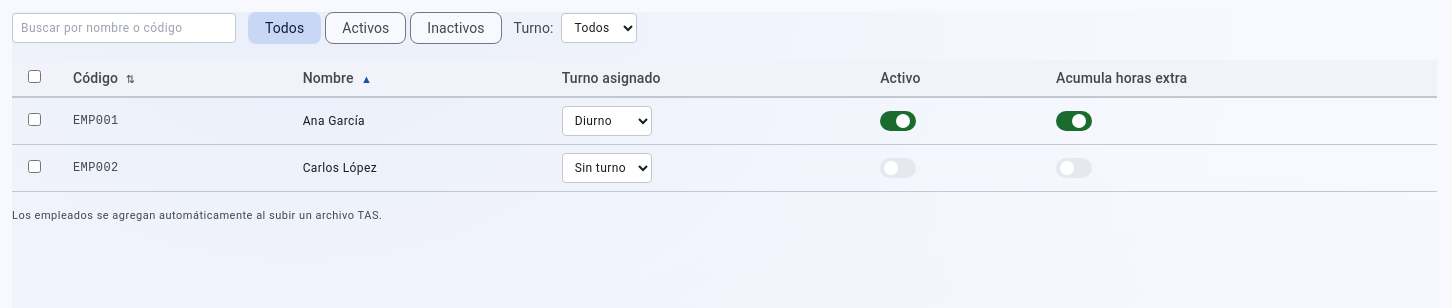
Test: EmployeesTab bulk assign › select all checkbox selects all filtered employees
Check: the text "EMP001" is shown, box top-left (57, 97), bottom-right (287, 144)
Click the checkbox named "Seleccionar todos" at (34, 76), box top-left (28, 70), bottom-right (41, 82)
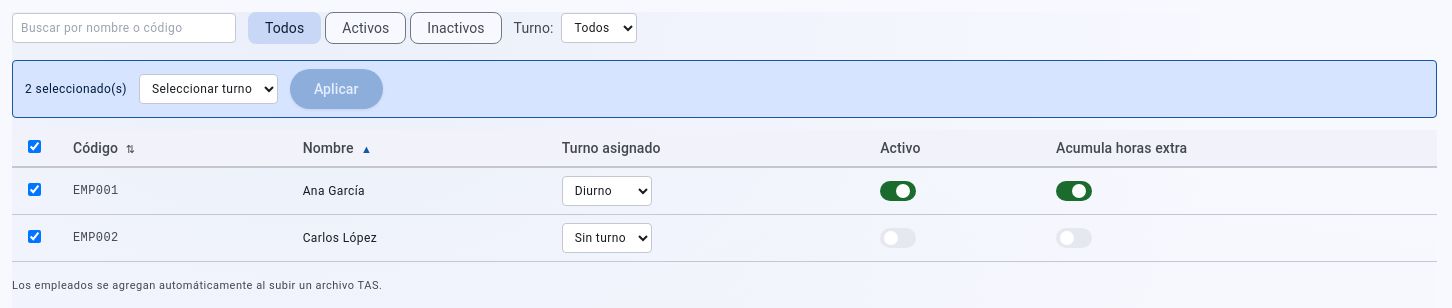
Check: the text "2 seleccionado(s)" is shown, box top-left (25, 81), bottom-right (127, 97)
